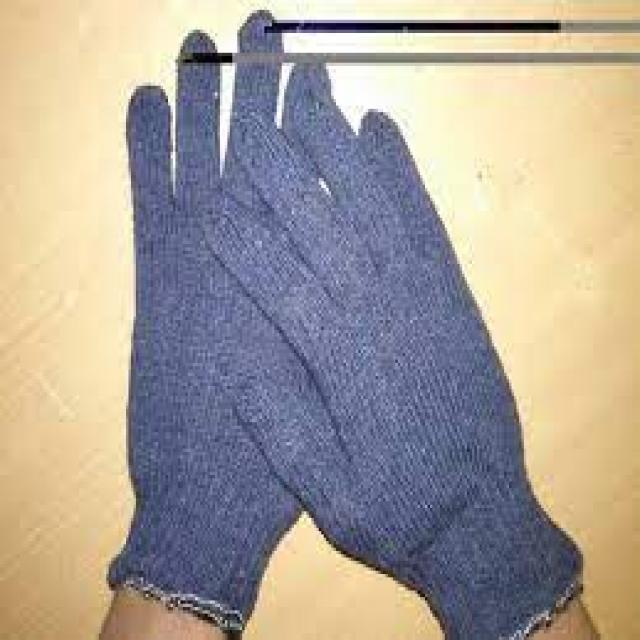Clothes -Biodegradable-: (110, 14, 582, 640)
